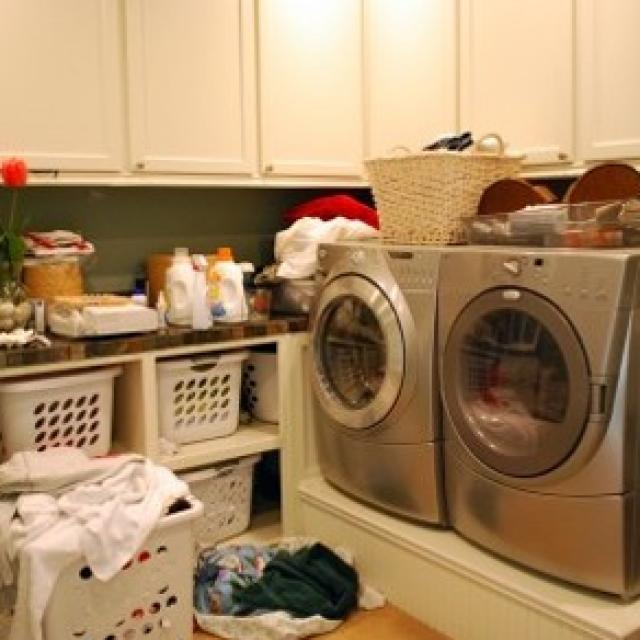scattered-items: (0, 447, 366, 640), (0, 180, 292, 362), (320, 156, 640, 268)
